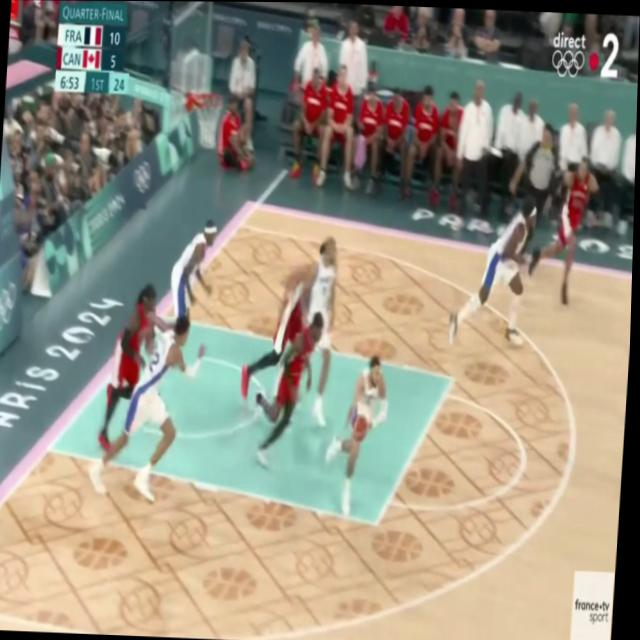ball_handler: (339, 351, 394, 514)
